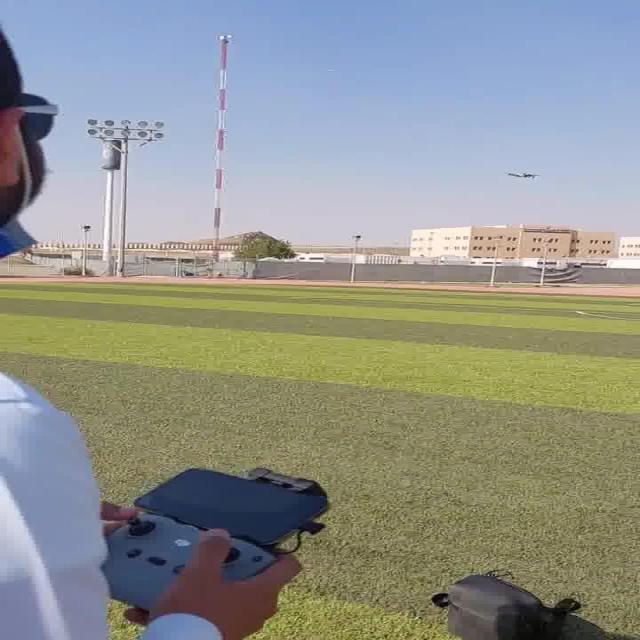drone: (502, 165, 550, 185)
